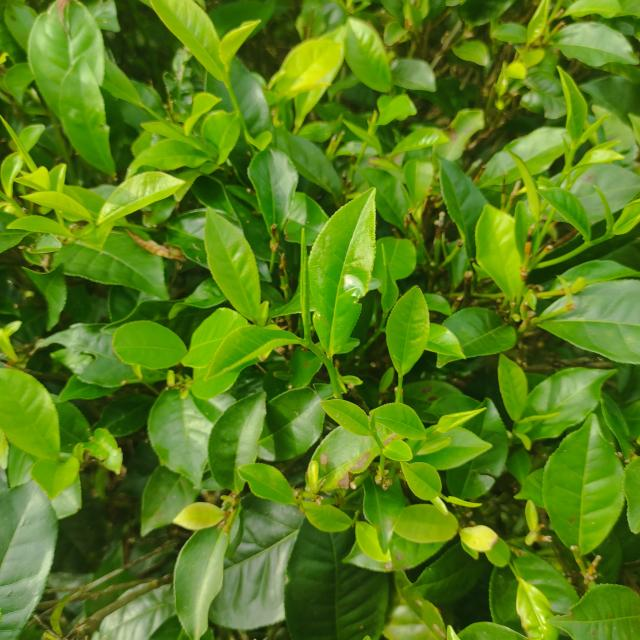unopened_leaf: (0, 114, 44, 176), (296, 224, 315, 345), (575, 111, 617, 151), (588, 179, 616, 236), (513, 404, 567, 430), (548, 131, 576, 159), (362, 404, 382, 438)
